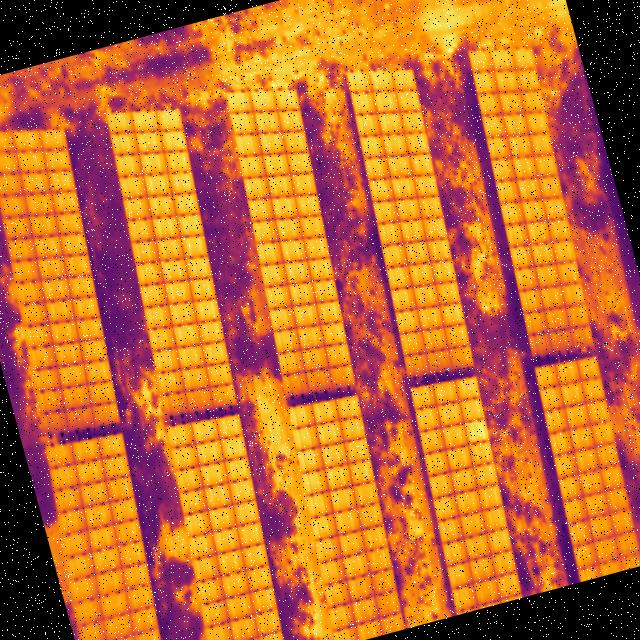Hotspot: (463, 416, 493, 446)
